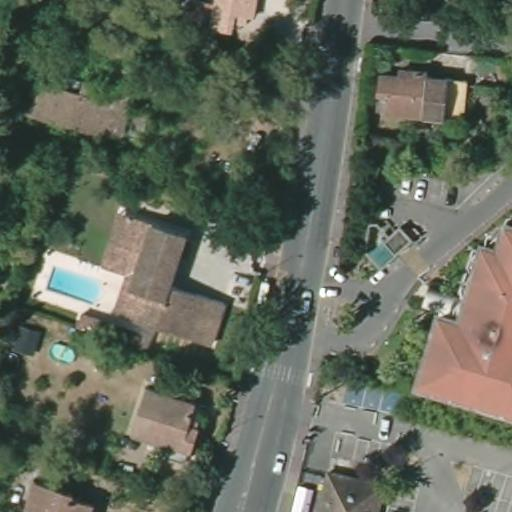pool: (43, 263, 106, 307), (44, 338, 77, 364)
